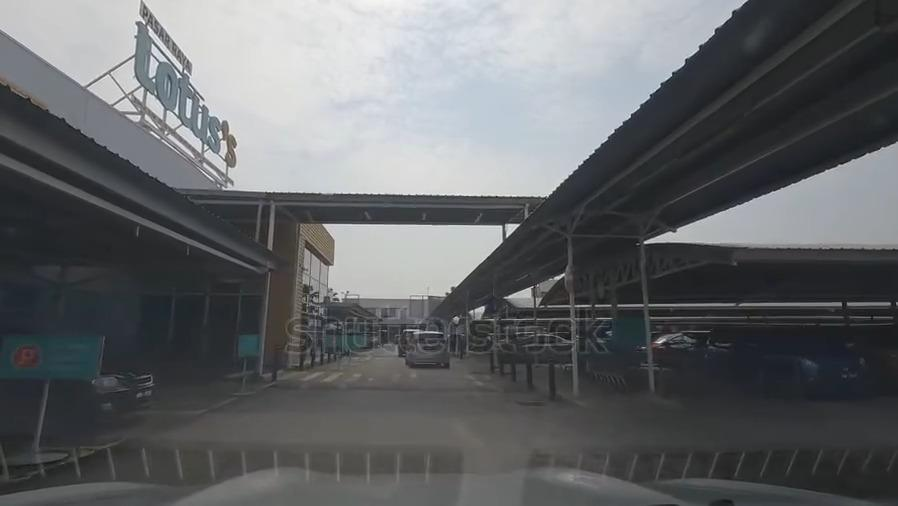car: (0, 337, 154, 419), (713, 329, 863, 395), (856, 326, 898, 394), (649, 331, 706, 363)
manhole: (517, 397, 544, 411)
pedestrian: (265, 370, 507, 382)
speedbump: (268, 383, 531, 395)
